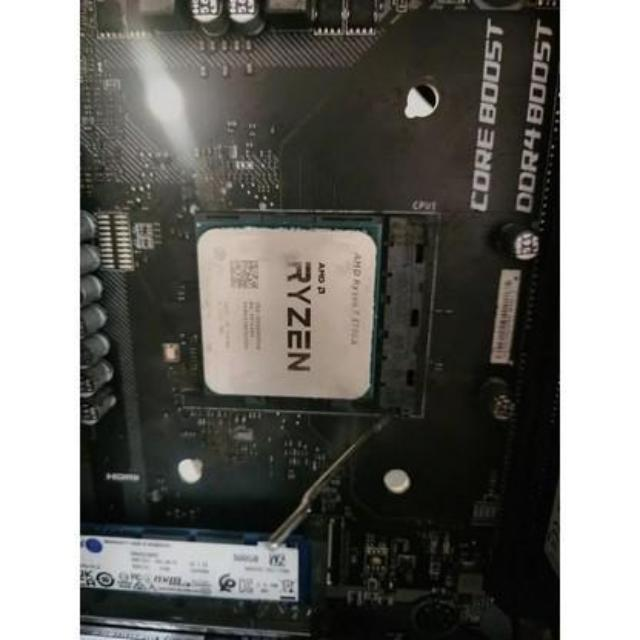CPU: (196, 224, 376, 407)
